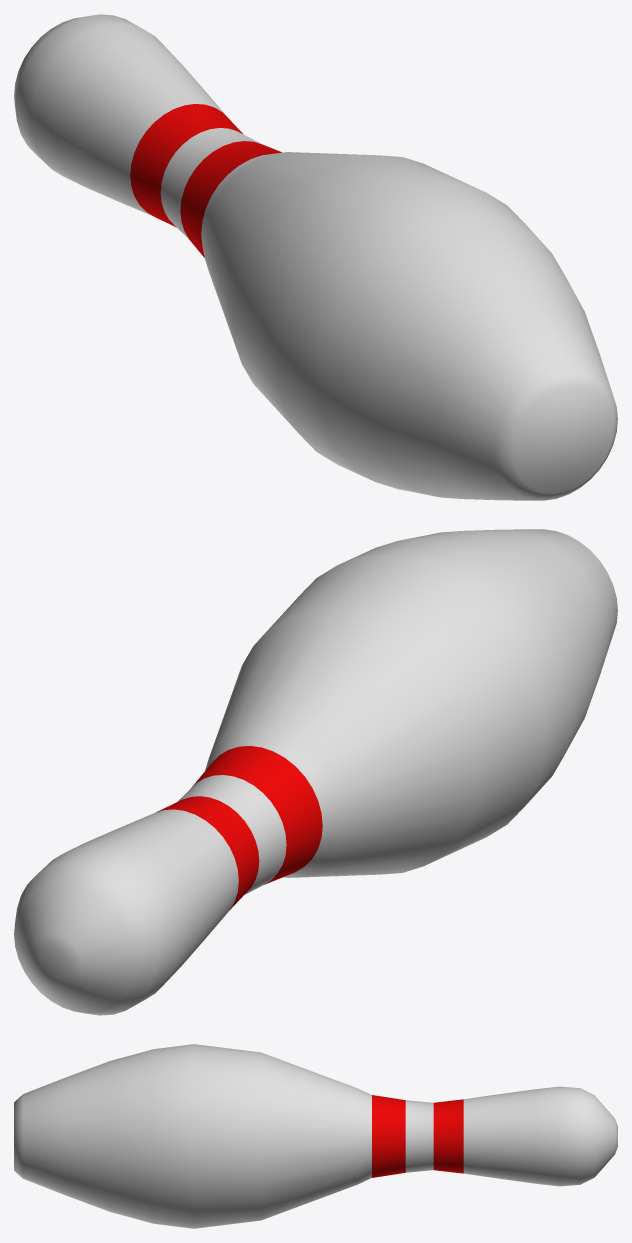
The model's file is COL_Obj_7_Pin_Coll.dae.
The picture shows the model from 3 angles, top to bottom: view 1: azimuth 30°, elevation 25°; view 2: azimuth 150°, elevation 25°; view 3: azimuth 270°, elevation 25°; orthographic projection. The views are drawn at different scales.
Parts seen in each view (by area): view 1: COL_Obj_7_Pin_Coll; view 2: COL_Obj_7_Pin_Coll; view 3: COL_Obj_7_Pin_Coll.
Part boxes in pixels (x1,y1,x2,y2): COL_Obj_7_Pin_Coll: (14, 14, 617, 500); COL_Obj_7_Pin_Coll: (14, 529, 617, 1015); COL_Obj_7_Pin_Coll: (14, 1044, 617, 1228).
Size of the model in its own units: 5.69 by 18.6 by 5.69.
